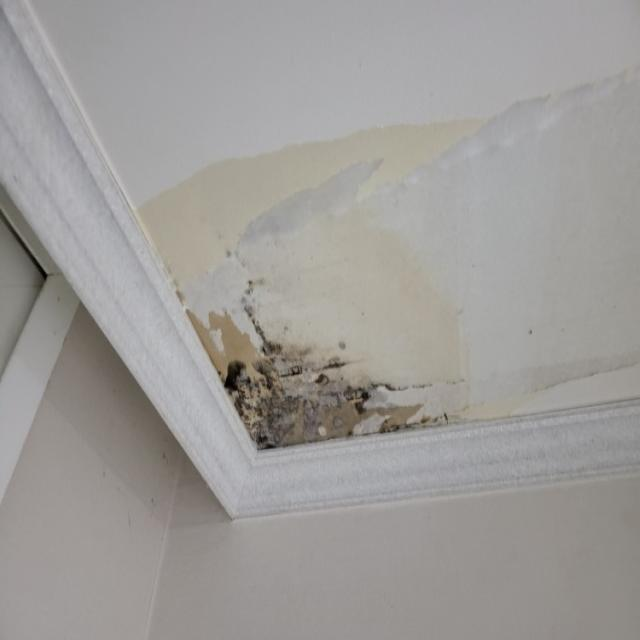leak: (225, 347, 373, 448)
